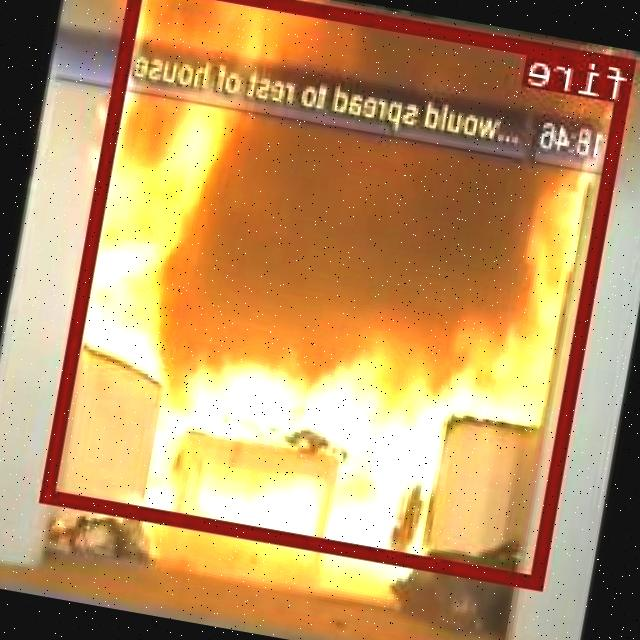fire: (42, 0, 636, 587)
